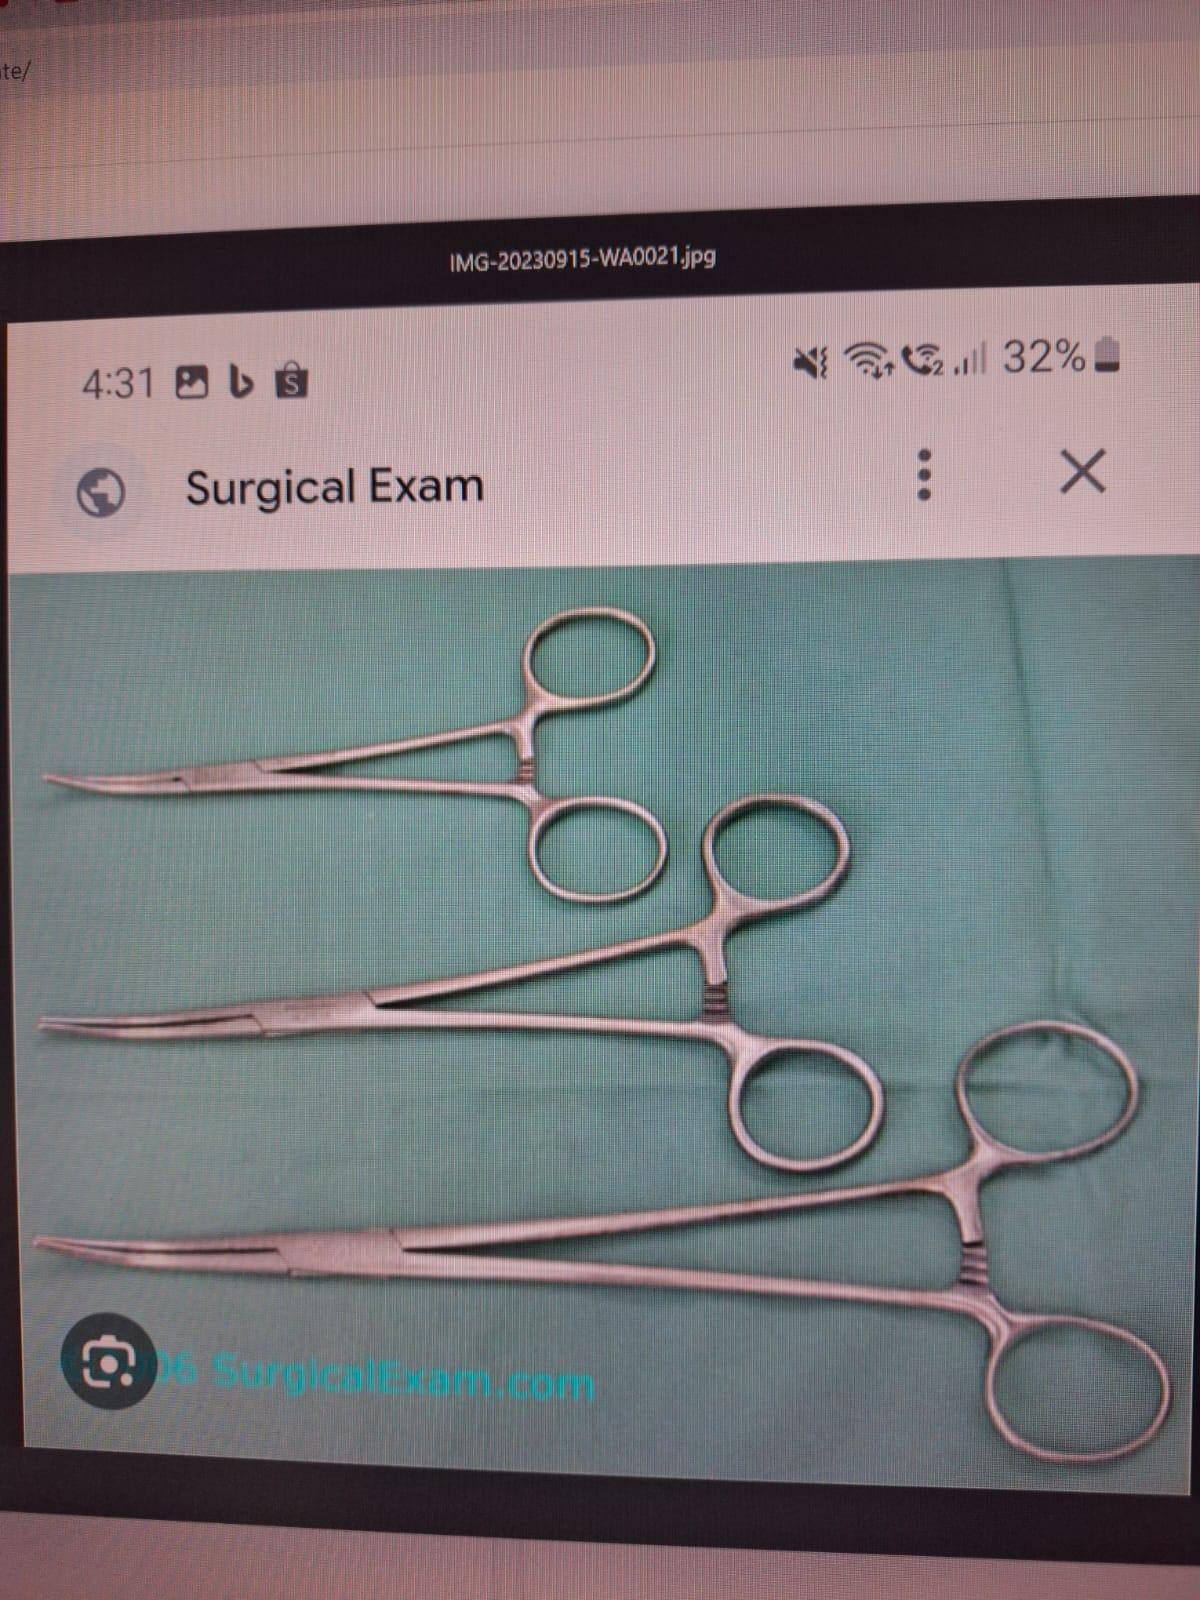Artery Forceps: (30, 1008, 1182, 1473), (30, 762, 892, 1180), (35, 597, 676, 915)
